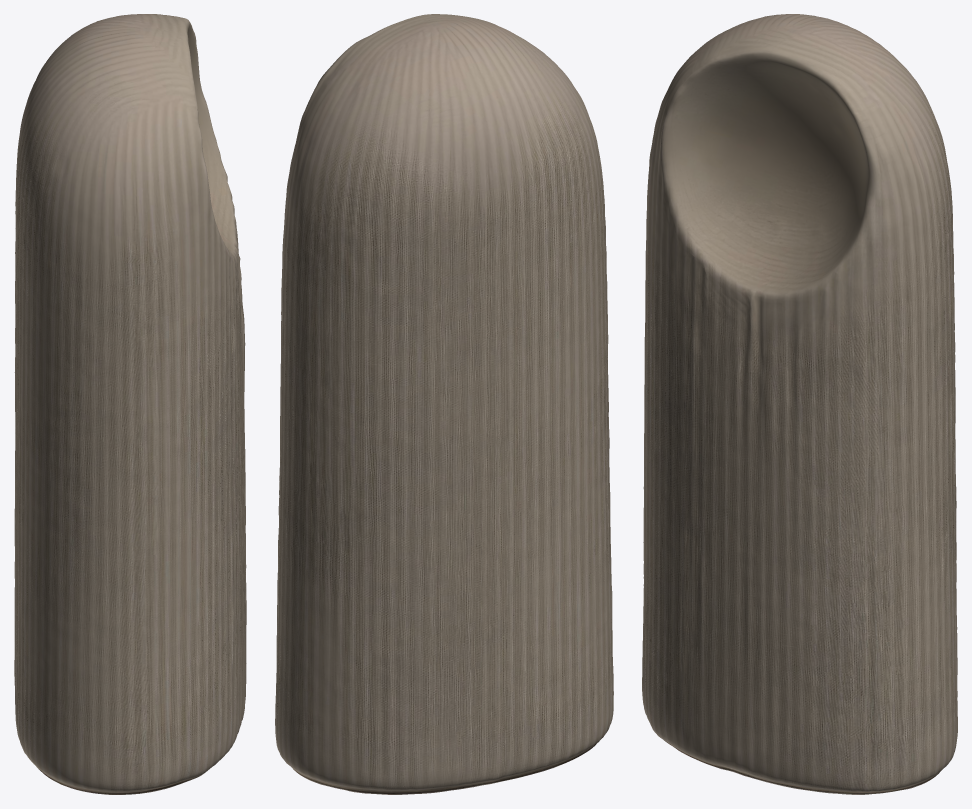
Rendered from tommel.glb.
3 views of the same model, side by side, from view 1: azimuth 30°, elevation 25°; view 2: azimuth 150°, elevation 25°; view 3: azimuth 270°, elevation 25° (orthographic). The views are drawn at different scales.
Parts seen in each view (by area): view 1: tripo_node_41e06c0b-84b8-4861-af69-75fb7864ce6e; view 2: tripo_node_41e06c0b-84b8-4861-af69-75fb7864ce6e; view 3: tripo_node_41e06c0b-84b8-4861-af69-75fb7864ce6e.
Part boxes in pixels (<box>): tripo_node_41e06c0b-84b8-4861-af69-75fb7864ce6e: <box>14,14,246,794</box>; tripo_node_41e06c0b-84b8-4861-af69-75fb7864ce6e: <box>275,14,613,794</box>; tripo_node_41e06c0b-84b8-4861-af69-75fb7864ce6e: <box>642,14,957,794</box>.
Bounding box in the file's own units: 0.3583 × 0.9783 × 0.3916.
Materials: 1 (1 with a texture image).
